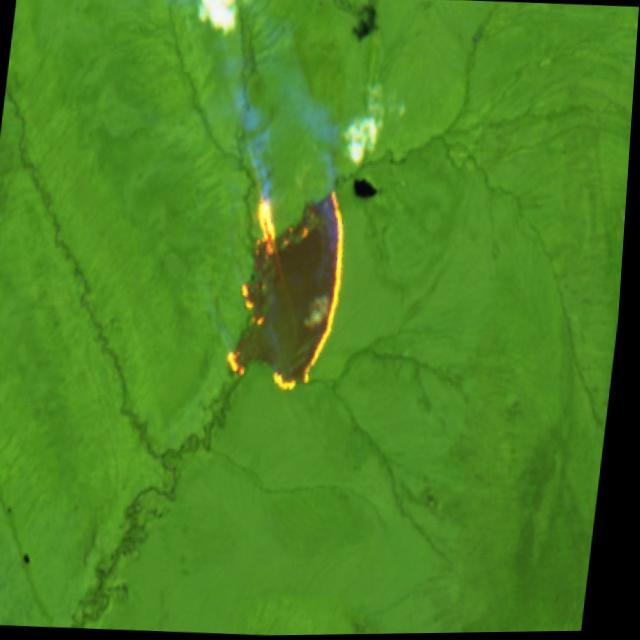fire: (223, 181, 361, 398)
